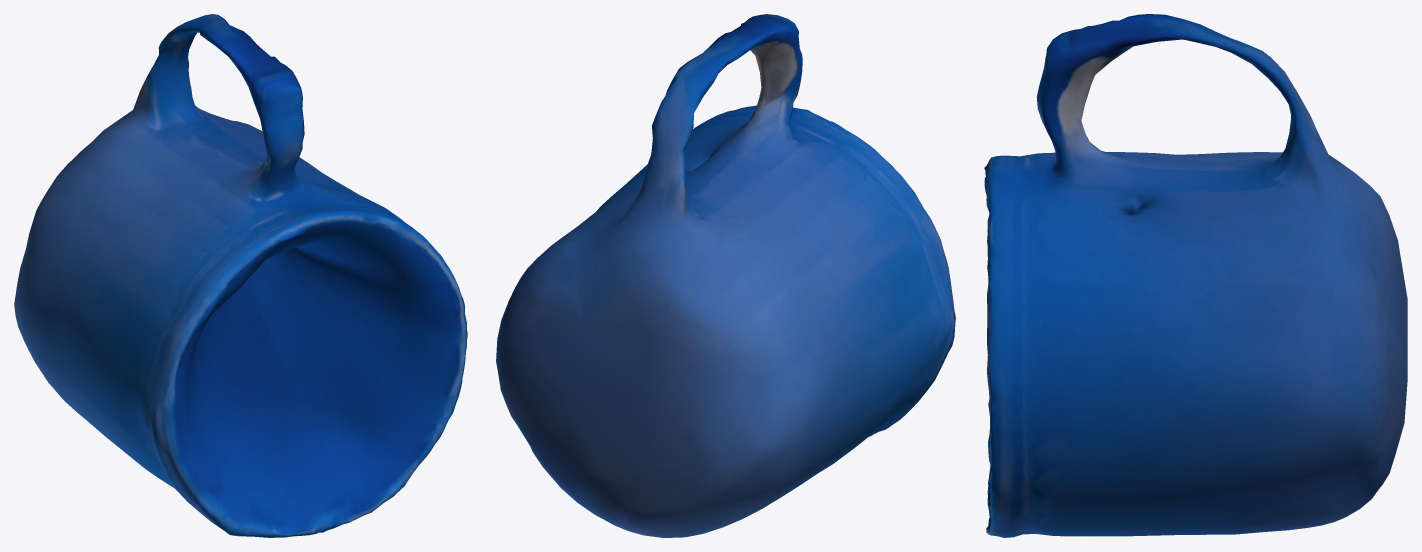
File: blue_mug_big.obj
3 renders of one model, left to right at view 1: azimuth 30°, elevation 25°; view 2: azimuth 150°, elevation 25°; view 3: azimuth 270°, elevation 25°, orthographic. The views are drawn at different scales.
Parts seen in each view (by area): view 1: obj1; view 2: obj1; view 3: obj1.
Boxes of the visible parts, x1=… form: obj1: x1=14, y1=14, x2=467, y2=537; obj1: x1=496, y1=14, x2=955, y2=537; obj1: x1=984, y1=14, x2=1407, y2=537.
Size of the model in its own units: 0.0849 by 0.1174 by 0.0918.
Materials: 1 (1 with a texture image).
